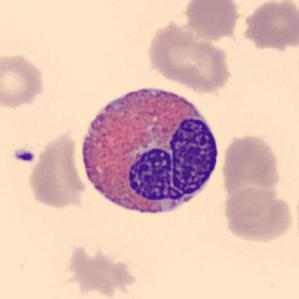Eosinophil: (73, 74, 226, 227)
Platelets: (12, 146, 37, 165)
RBC: (144, 17, 234, 95), (26, 127, 87, 212), (220, 131, 284, 206), (220, 185, 296, 246), (60, 244, 142, 297), (240, 0, 299, 54), (0, 49, 47, 110), (180, 0, 242, 40)
